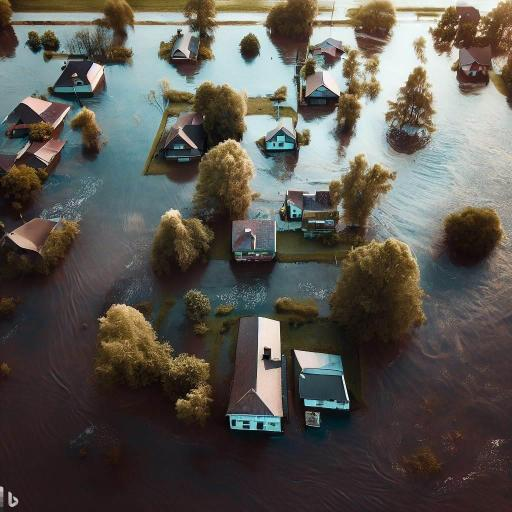flood: (0, 12, 512, 512), (0, 26, 79, 122), (392, 0, 500, 12), (317, 52, 348, 90), (312, 26, 358, 50), (12, 11, 101, 20), (217, 8, 268, 23), (135, 11, 184, 23), (318, 0, 332, 19)
house: (228, 315, 287, 437), (291, 346, 353, 420), (3, 131, 70, 184), (3, 216, 61, 272), (157, 211, 201, 271), (288, 183, 340, 233), (5, 98, 73, 136), (230, 216, 276, 268), (51, 58, 107, 100), (161, 114, 204, 166), (261, 120, 296, 156), (300, 82, 340, 112), (457, 44, 489, 76), (169, 28, 201, 60), (311, 37, 346, 61)
